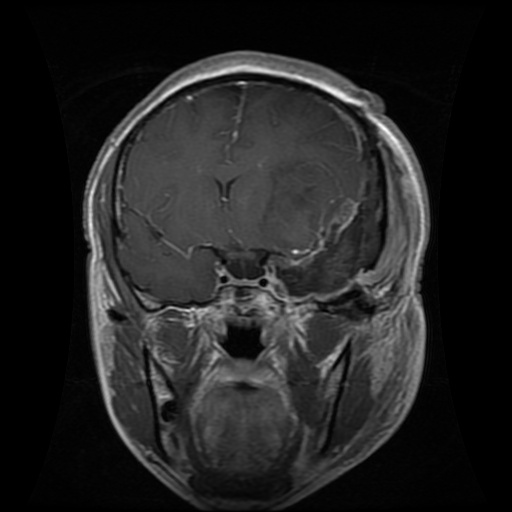glioma: (279, 155, 384, 296)
